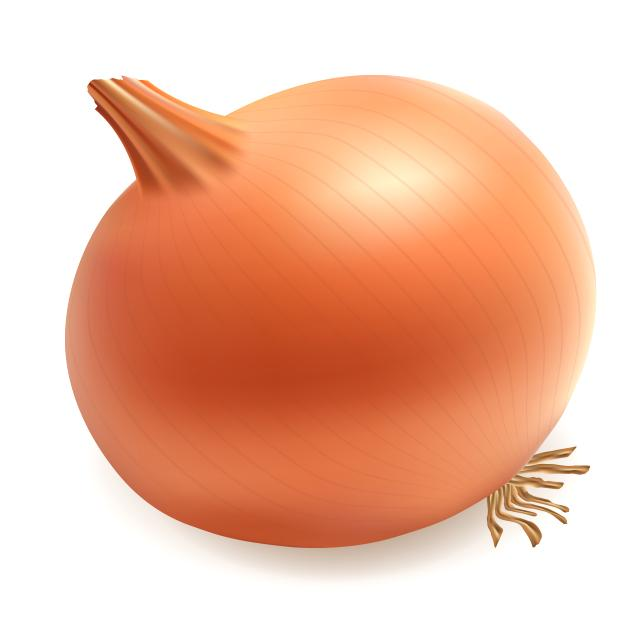onion: (61, 76, 599, 557)
